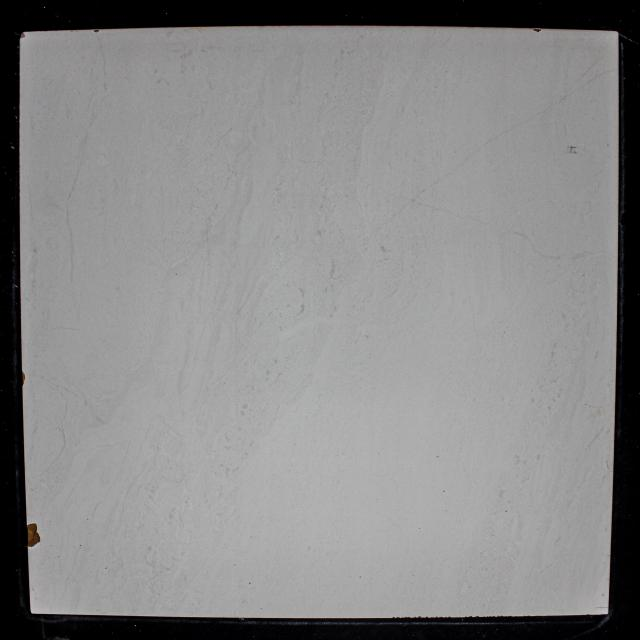edge-chipping: (25, 523, 41, 548), (21, 371, 26, 387), (533, 27, 542, 33), (20, 32, 25, 39)
hole: (93, 30, 99, 33)
line: (97, 35, 106, 75), (594, 606, 608, 610)
